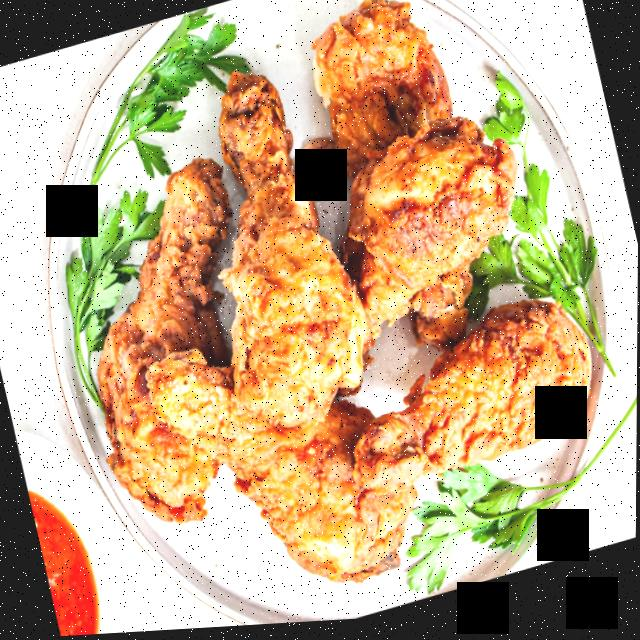Frango: (20, 0, 621, 639)
